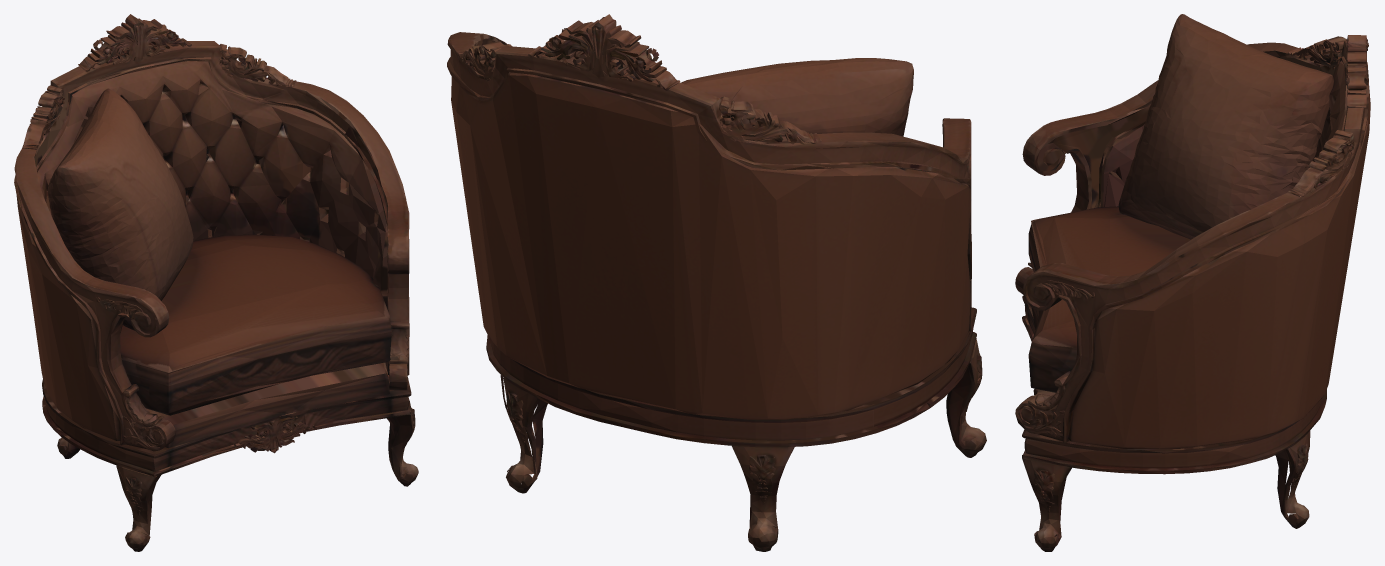
The model's file is edited_mesh.glb.
3 renders of one model, left to right at view 1: azimuth 30°, elevation 25°; view 2: azimuth 150°, elevation 25°; view 3: azimuth 270°, elevation 25°, orthographic. The views are drawn at different scales.
Visible parts, largest first — view 1: solid_001_wire; view 2: solid_001_wire; view 3: solid_001_wire.
Part boxes in pixels (left/top/right/bottom): solid_001_wire: left=14, top=14, right=418, bottom=551; solid_001_wire: left=447, top=14, right=986, bottom=551; solid_001_wire: left=1015, top=14, right=1370, bottom=551.
Bounding box in the file's own units: 1.26 × 1.37 × 0.9974.
1 material, 1 textured.
